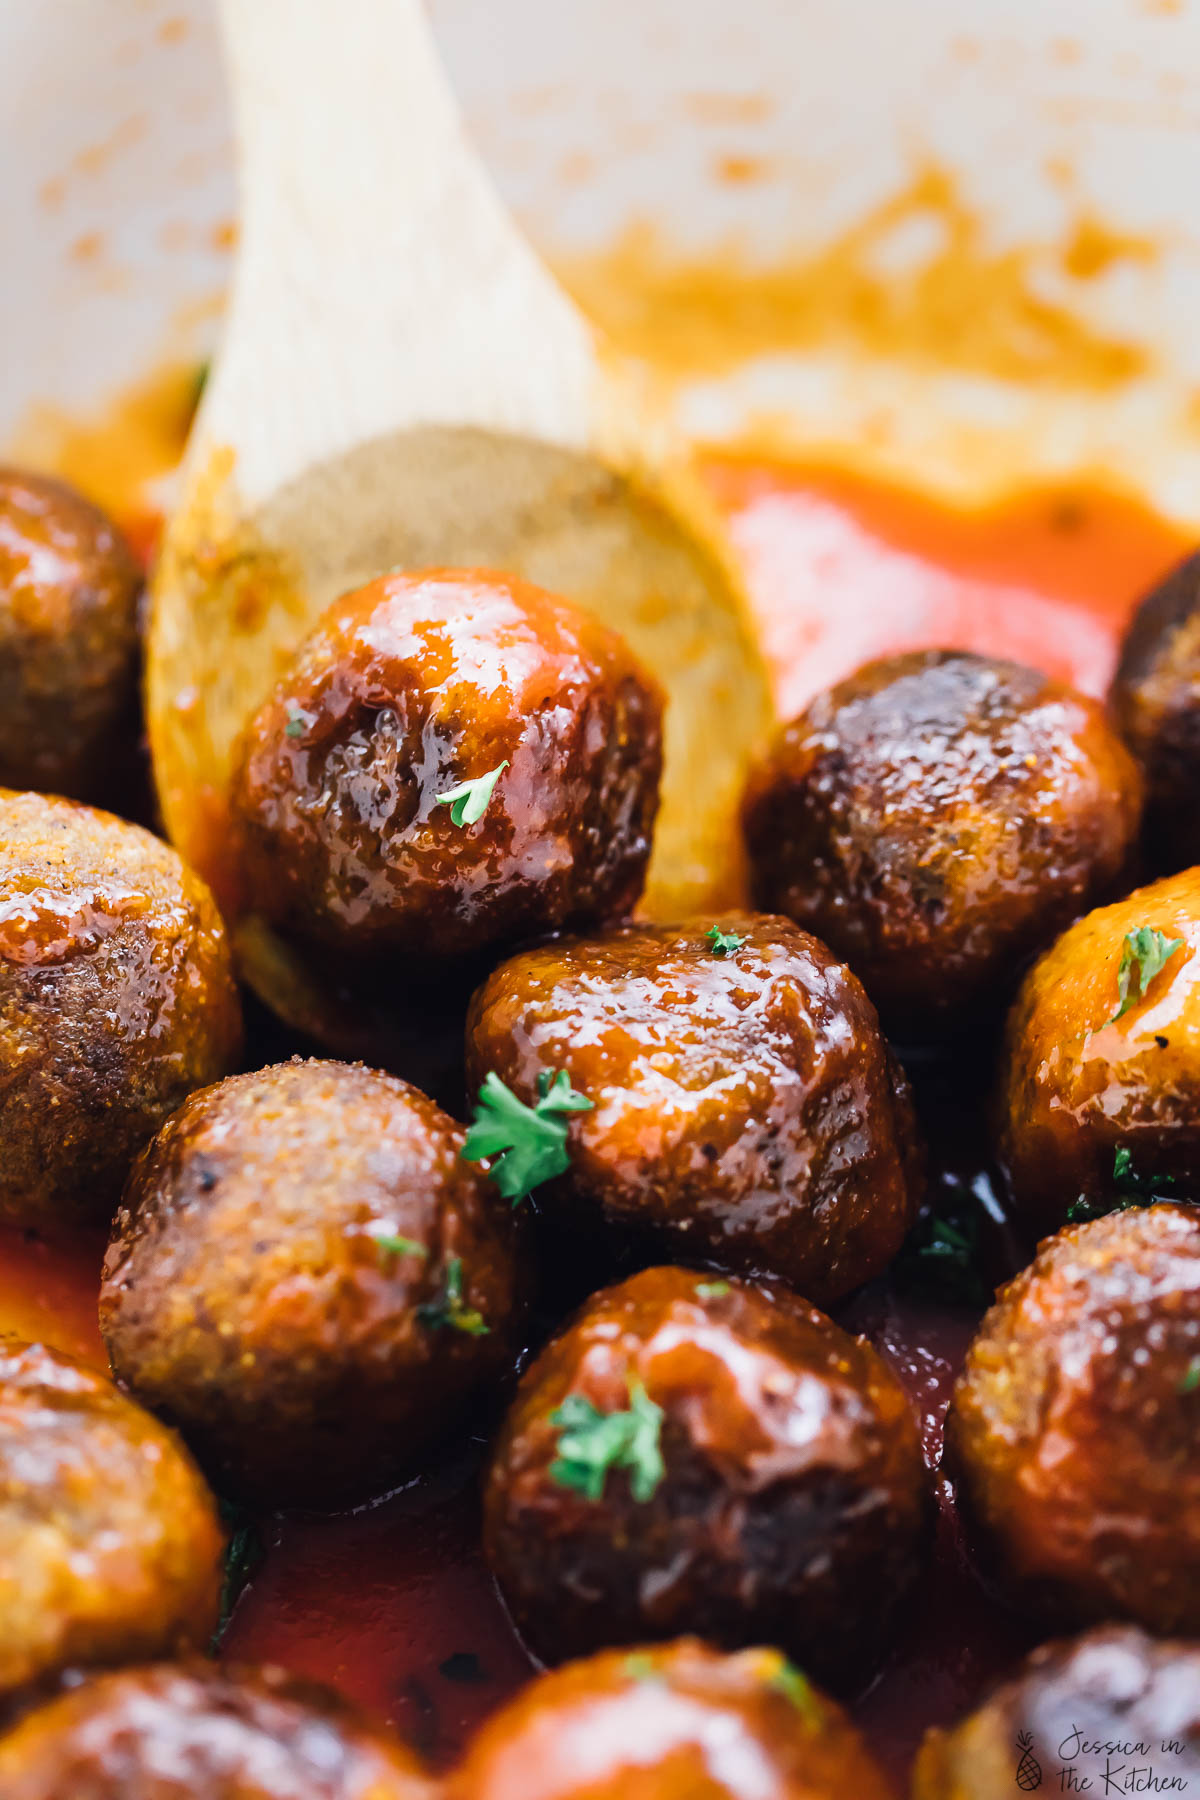meatballs: (224, 573, 692, 978), (455, 911, 913, 1294), (496, 1251, 891, 1641), (108, 1075, 482, 1462), (766, 650, 1153, 942), (943, 1205, 1200, 1617), (1, 787, 216, 1250)
